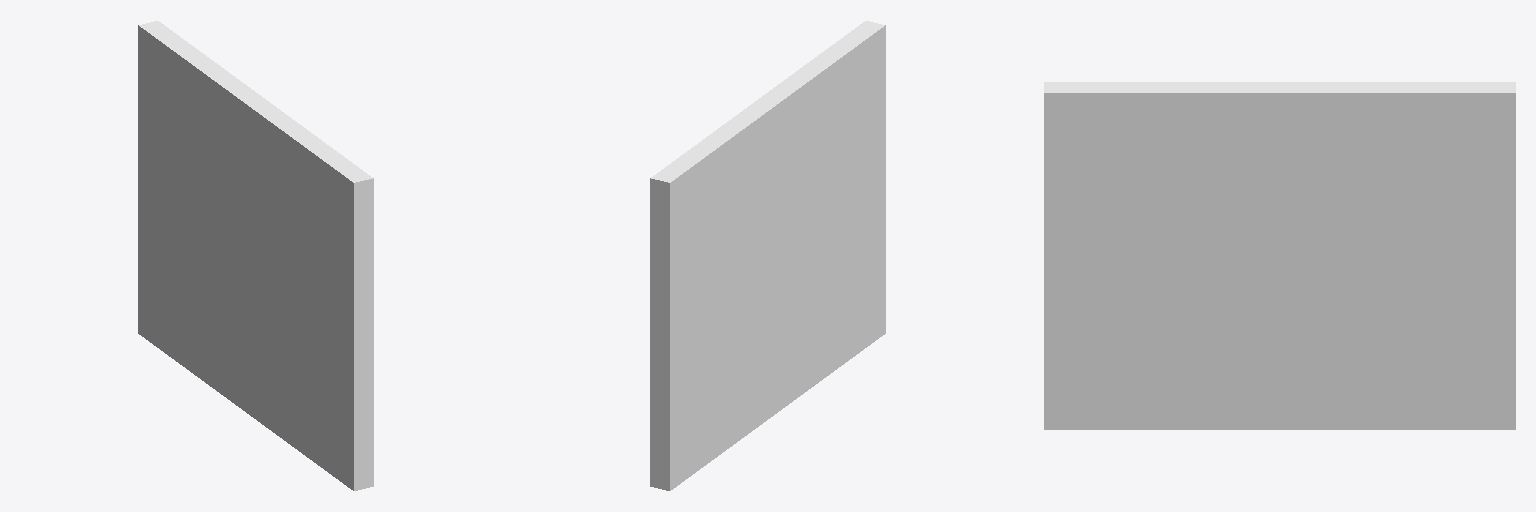
The robot description file, URDF, robot "top_right_leftwall":
<?xml version="1.0" ?>
<robot name="top_right_leftwall">
 <link name="baseLink">
   <contact>
     <lateral_friction value="0.5"/>
   </contact>
   <inertial>
     <origin rpy="0 0 0" xyz="0.7 0.21 1.19"/>
      <mass value="1.0"/>
      <inertia ixx="0.000045" ixy="0.000000" ixz="0.000000" iyy="0.000017" iyz="0.000000" izz="0.000028"/>
   </inertial>
   <visual>
     <origin rpy="0 0 0" xyz="0 0 0"/>
     <geometry>
       <mesh filename="top_right_leftwall.obj" scale="1.0 1.0 1.0"/>
     </geometry>
      <material name="white">
       <color rgba="1 1 1 1"/>
     </material>
   </visual>
   <collision>
     <origin rpy="0 0 0" xyz="0 0 0"/>
     <geometry>
       <mesh filename="top_right_leftwall.obj" scale="1.0 1.0 1.0"/>
     </geometry>
   </collision>
 </link>
</robot>

--- Facts derived from the render (not from the file) ---
3 views of the same robot in one strip: view 1: azimuth 30°, elevation 25°; view 2: azimuth 150°, elevation 25°; view 3: azimuth 270°, elevation 25° (orthographic).
Model top_right_leftwall with 1 links and 0 joints (none), rooted at baseLink, posed every joint at zero.
Visible links, largest first — view 1: baseLink; view 2: baseLink; view 3: baseLink.
Boxes of the visible links, box(x1,y1,x2,y2) form: baseLink: box(138, 21, 373, 490); baseLink: box(650, 21, 885, 490); baseLink: box(1044, 82, 1515, 429).
Size in the robot's own frame: 0.02 by 0.38 by 0.3 metres.
Meshes: 1 distinct files referenced, 1 mesh visuals loaded (1 OBJ).